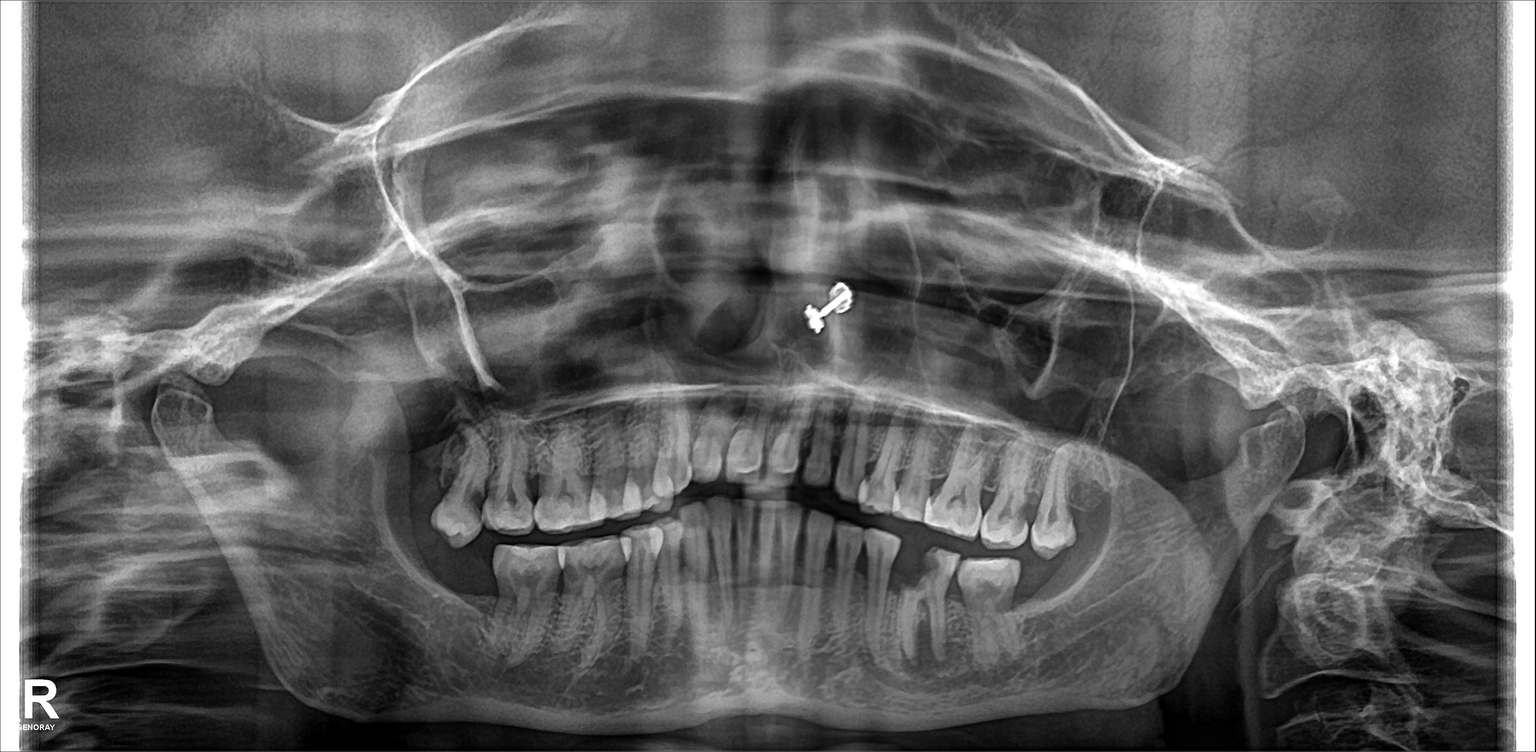Dental Caries: (892, 553, 936, 591), (965, 471, 1009, 508), (460, 490, 484, 523), (520, 471, 545, 500), (549, 573, 569, 597)
Missing Tooth: (389, 434, 441, 533), (453, 553, 501, 634), (1026, 566, 1059, 660), (413, 538, 448, 624), (1078, 456, 1110, 547)
Periapical Lesion: (894, 611, 973, 684)
